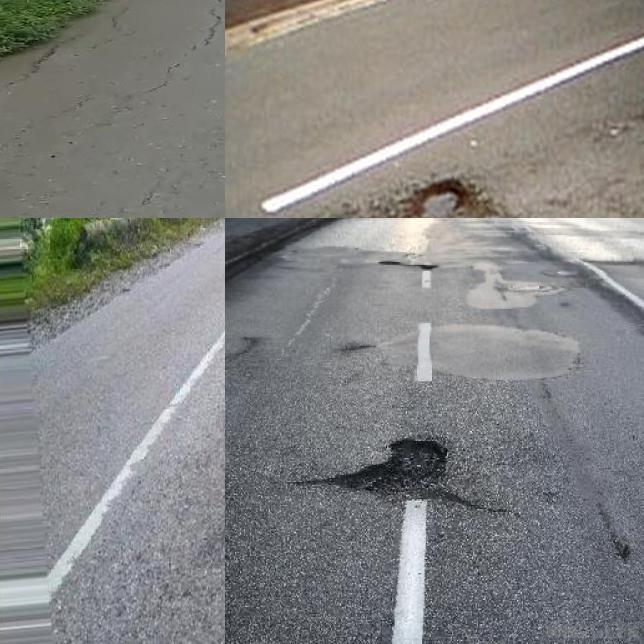Lubang: (330, 439, 468, 504), (413, 183, 473, 218)
